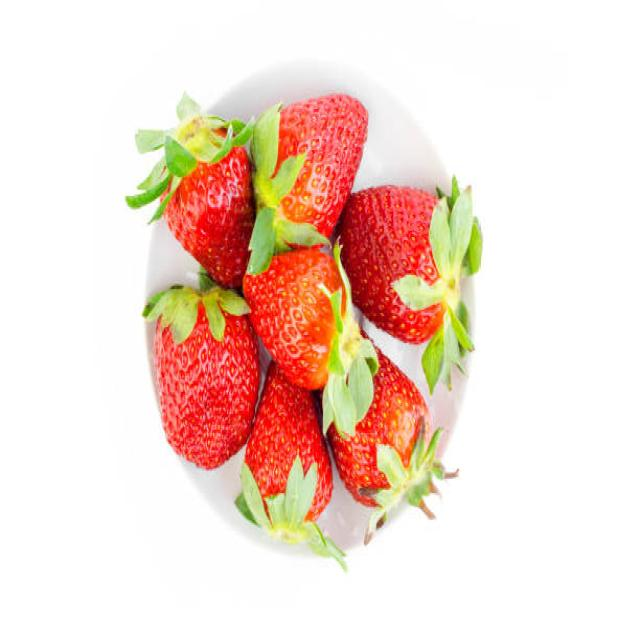Healthy Fruit: (335, 183, 453, 346), (155, 301, 261, 467), (260, 94, 369, 248), (325, 348, 429, 507), (158, 128, 257, 288), (244, 358, 334, 530), (243, 249, 347, 386)
